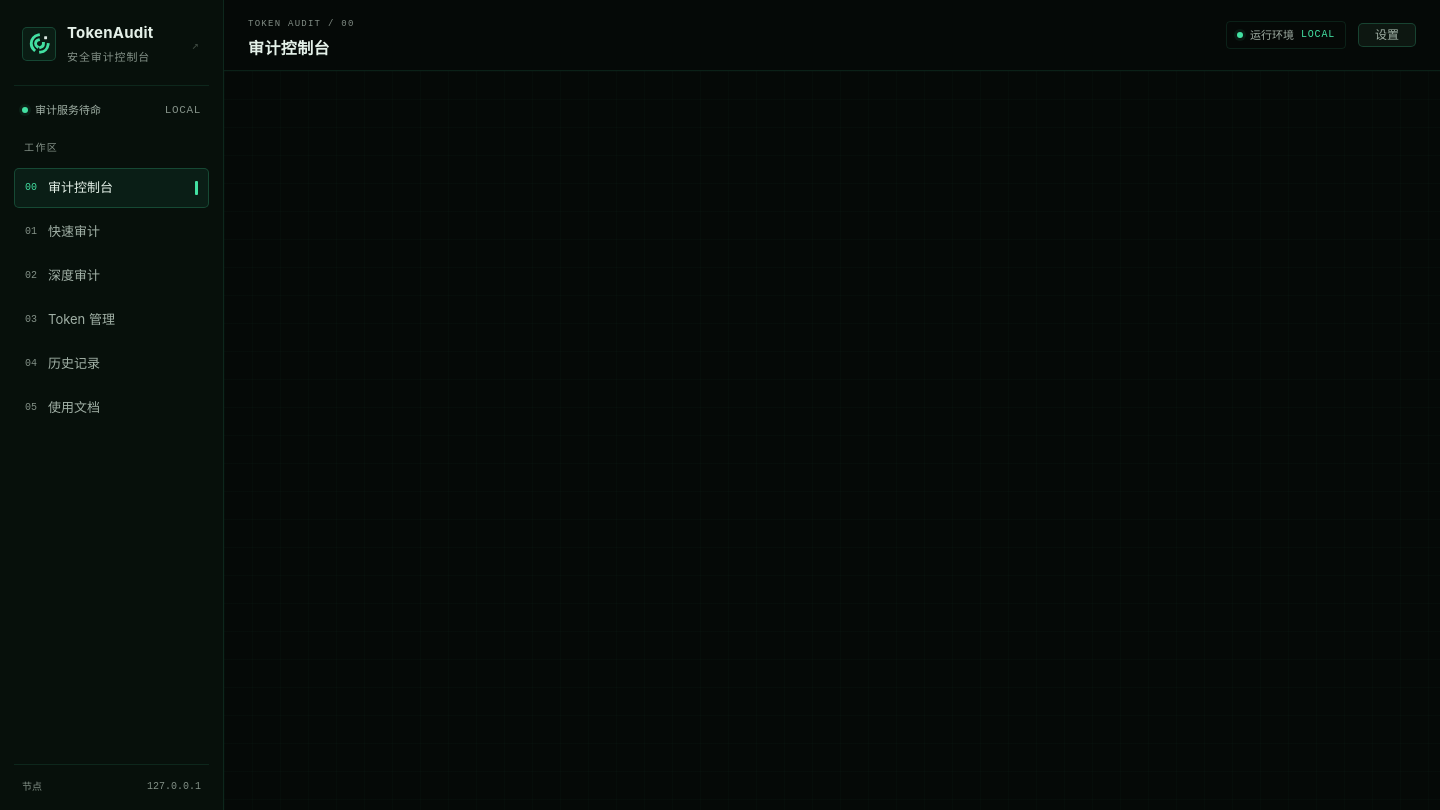
Scenario: console shell settings › still mounts and reports an accessible error when storage reads fail
What coordinates should you click on to do the following:
click the button "设置"
I would click on:
 (1387, 35)
Its box is top-left (1358, 23), bottom-right (1416, 47).
(page scrolled)
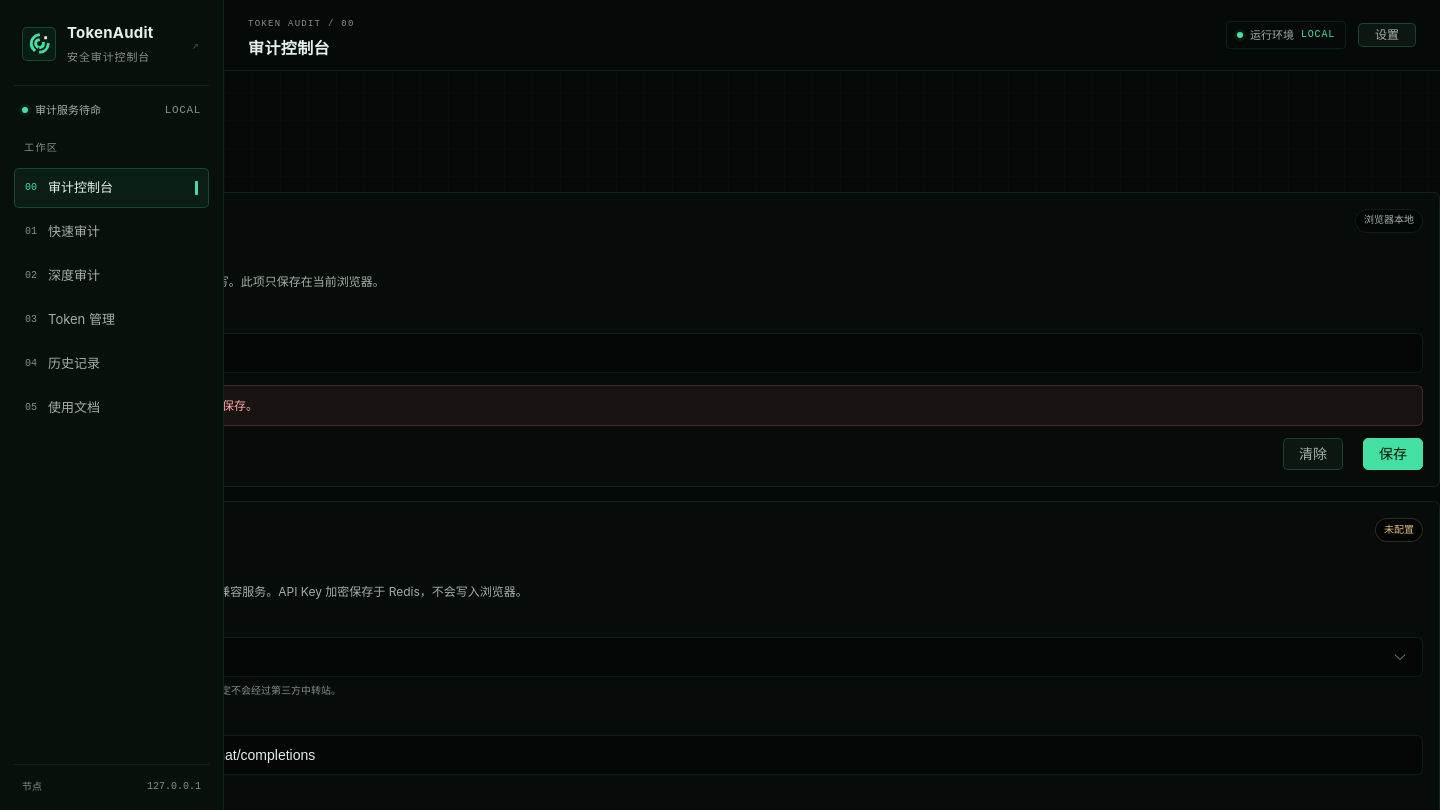
Expected: the message "无法访问浏览器本地存储，设置不会保存。" is shown, top-left (17, 385), bottom-right (1423, 426)
